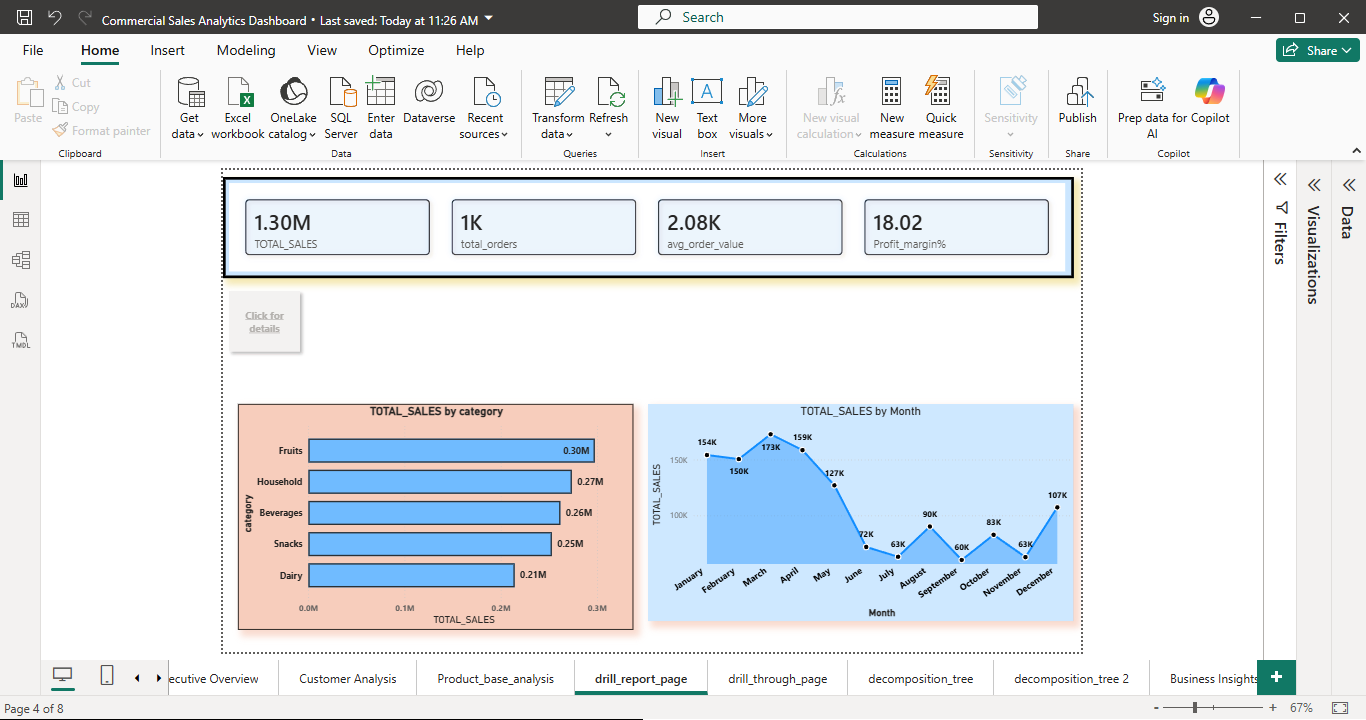

What the dashboard file says about the page in this screenshot:
{"tool":"powerbi","page":{"name":"drill_report_page","canvas":[1280,720],"ordinal":3},"visuals":[{"type":"cardVisual","fields":{"Data":["Measure_Table.TOTAL_SALES","Measure_Table.total_orders","Measure_Table.avg_order_value","Measure_Table.Profit_margin%"]},"box":[0,11.1,1269.8,150.8],"z":0},{"type":"clusteredBarChart","fields":{"Category":["delivery_partner products.category"],"Y":["Measure_Table.TOTAL_SALES"]},"box":[22.2,349.2,590.5,336.5],"z":1000},{"type":"actionButton","box":[0,171.4,123.8,107.9],"z":2000},{"type":"lineChart","fields":{"Category":["Date_Table.Date.Variation.Date Hierarchy.Year","Date_Table.Date.Variation.Date Hierarchy.Quarter","Date_Table.Date.Variation.Date Hierarchy.Month","Date_Table.Date.Variation.Date Hierarchy.Day"],"Y":["Measure_Table.TOTAL_SALES"]},"box":[634.9,349.2,634.9,323.8],"z":3000}]}

Visuals, with their boxes on the page's 1280x720 design canvas (x1, y1, x2, y2). These are canvas units, not pixel positions in the 1366x720 screenshot, which may show the page scaled, cropped or inside an application window:
cardVisual - Measure_Table.TOTAL_SALES x Measure_Table.total_orders: pyautogui.locateOnScreen(0, 11, 1270, 162)
clusteredBarChart - delivery_partner products.category x Measure_Table.TOTAL_SALES: pyautogui.locateOnScreen(22, 349, 613, 686)
actionButton: pyautogui.locateOnScreen(0, 171, 124, 279)
lineChart - Date_Table.Date.Variation.Date Hierarchy.Year x Date_Table.Date.Variation.Date Hierarchy.Quarter: pyautogui.locateOnScreen(635, 349, 1270, 673)
